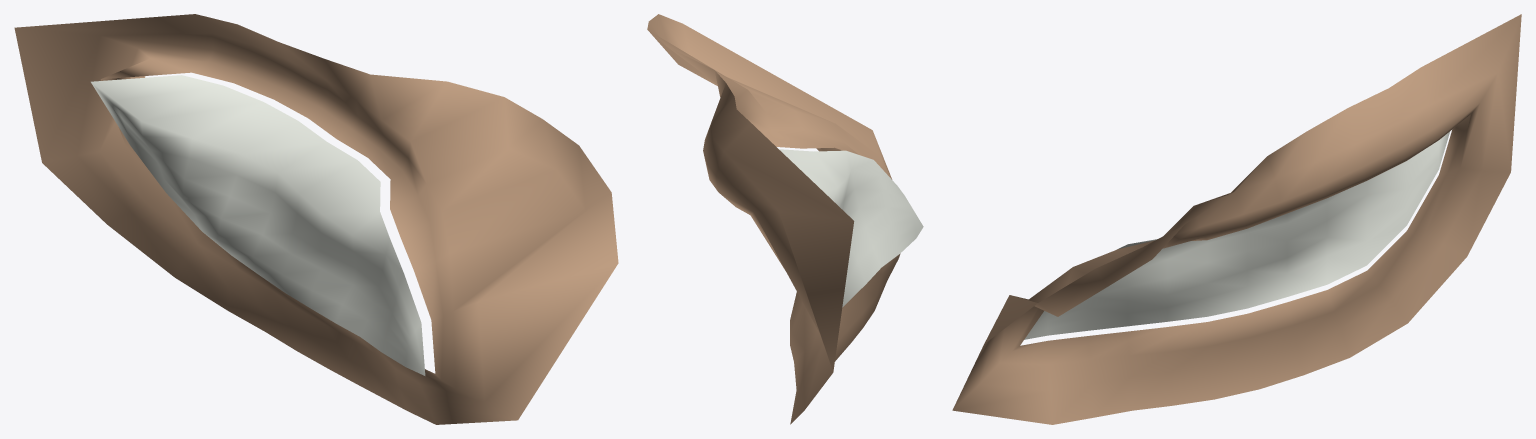
The model's file is Ichiro_Eye_R_Blink_Pilot.glb.
3 views of the same model, side by side, from view 1: azimuth 30°, elevation 25°; view 2: azimuth 150°, elevation 25°; view 3: azimuth 270°, elevation 25° (orthographic). The views are drawn at different scales.
Visible parts, largest first — view 1: EYE_R_GAME_BLINK_PILOT, EYE_R_SURFACE_SUPPORT__NOT_FULL_GLOBE; view 2: EYE_R_GAME_BLINK_PILOT, EYE_R_SURFACE_SUPPORT__NOT_FULL_GLOBE; view 3: EYE_R_GAME_BLINK_PILOT, EYE_R_SURFACE_SUPPORT__NOT_FULL_GLOBE.
Boxes of the visible parts, x1,y1,x2,y2 form: EYE_R_GAME_BLINK_PILOT: (14,14,618,424); EYE_R_SURFACE_SUPPORT__NOT_FULL_GLOBE: (91,75,425,375); EYE_R_GAME_BLINK_PILOT: (647,14,900,424); EYE_R_SURFACE_SUPPORT__NOT_FULL_GLOBE: (779,149,923,307); EYE_R_GAME_BLINK_PILOT: (952,14,1521,424); EYE_R_SURFACE_SUPPORT__NOT_FULL_GLOBE: (1024,131,1449,339).
Bounding box in the file's own units: 0.056 × 0.0435 × 0.0697.
